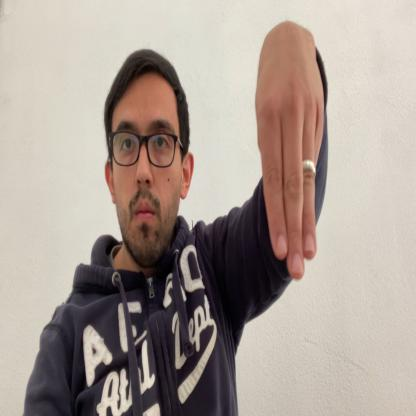M: (256, 27, 324, 279)
